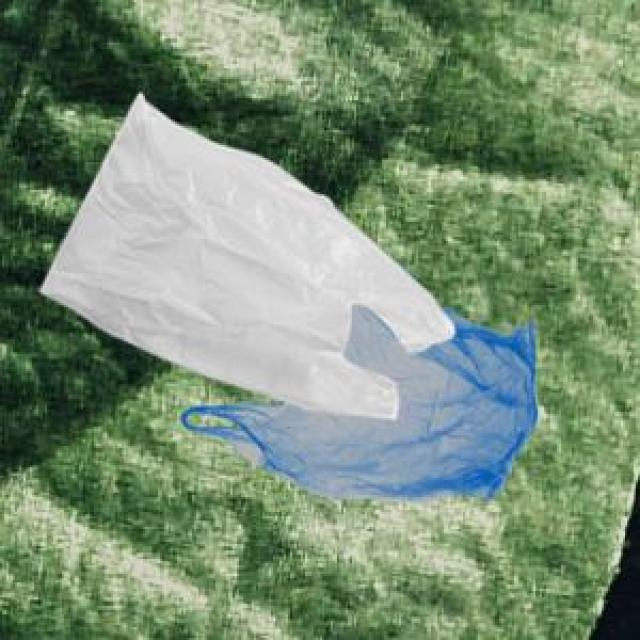plastic: (41, 76, 580, 548)
